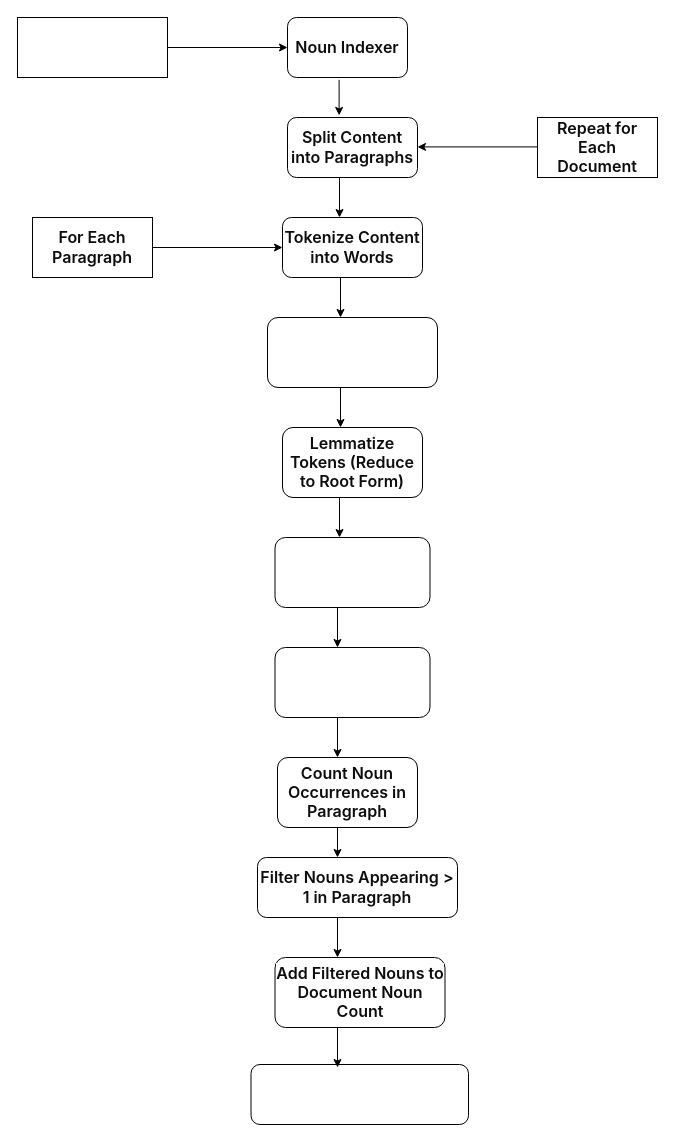
Image size: 675x1142. Some labels were removed from this diagram. The centre of each missing label's shape, as x and y in pixels:
"Build Inverted Index (noun -> {doc_name: count})" belongs at point 359,1094.
"Extract Nouns from POS-tagged Tokens" belongs at point 352,682.
"Input Documents (title and content)" belongs at point 92,47.
"Part-of-Speech Tagging (Identify Nouns)" belongs at point 352,572.
"Remove Stop Words and Non-Alphabetic Tokens" belongs at point 352,352.
